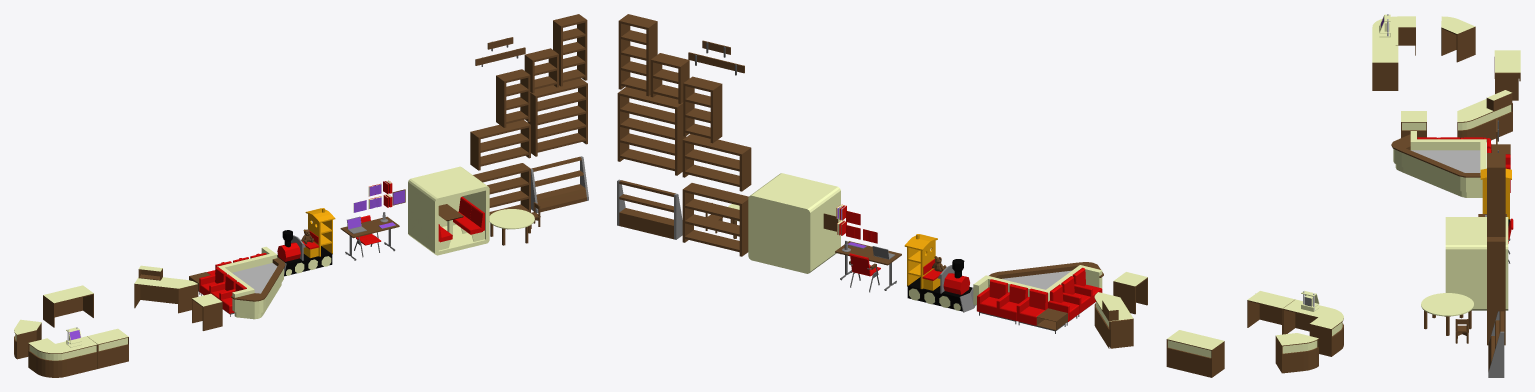
File: LibraryProps.fbx
The picture shows the model from 3 angles, left to right: view 1: azimuth 30°, elevation 25°; view 2: azimuth 150°, elevation 25°; view 3: azimuth 270°, elevation 25°; orthographic projection. The views are drawn at different scales.
Visible parts, largest first — view 1: IsolationCube, Aikak. lehdet v1, BookshelfTall v1, Aakkosveturi AAPO, LendingDeskCornerLarge, BookshelfShort v1, LendingDeskMain, SmallBookshelfTall v1, Bookshelf v2, Bookshelf v1, SmallBookshelf v1, LendingDeskLarge (+7 smaller); view 2: IsolationCube, Aikak. lehdet v1, BookshelfTall v1, Aakkosveturi AAPO, Bookshelf v1, BookshelfShort v1, SmallBookshelfTall v1, Bookshelf v2, LendingDeskLarge, SmallBookshelf v1, LendingDeskCornerLarge, LendingDeskMain (+6 smaller); view 3: Aikak. lehdet v1, IsolationCube, LendingDeskMain, SmallBookshelfTall v1, BookshelfTall v1, LendingDeskTurningSmall, TableChildrens, LendingDeskMedium, LendingDeskLarge, LendingDeskCornerLarge, Bookshelf v2, LendingDeskSmall (+5 smaller).
Part boxes in pixels (box(x1,y1,x2,y2)): IsolationCube: box(408, 166, 489, 255); Aikak. lehdet v1: box(199, 246, 285, 319); BookshelfTall v1: box(527, 78, 587, 156); Aakkosveturi AAPO: box(277, 208, 335, 276); LendingDeskCornerLarge: box(28, 336, 97, 377); BookshelfShort v1: box(470, 120, 530, 170); LendingDeskMain: box(134, 265, 198, 313); SmallBookshelfTall v1: box(553, 14, 587, 86); Bookshelf v2: box(531, 156, 588, 212); Bookshelf v1: box(473, 163, 530, 215); SmallBookshelf v1: box(496, 69, 530, 127); LendingDeskLarge: box(43, 285, 93, 327); IsolationCube: box(748, 173, 840, 273); Aikak. lehdet v1: box(973, 262, 1103, 325); BookshelfTall v1: box(617, 87, 686, 175); Aakkosveturi AAPO: box(904, 234, 975, 312); Bookshelf v1: box(682, 183, 748, 256); BookshelfShort v1: box(682, 134, 751, 191); SmallBookshelfTall v1: box(618, 14, 657, 96); Bookshelf v2: box(617, 179, 682, 239); LendingDeskLarge: box(1166, 330, 1224, 377); SmallBookshelf v1: box(683, 76, 722, 143); LendingDeskCornerLarge: box(1283, 299, 1343, 356); LendingDeskMain: box(1094, 292, 1133, 348); Aikak. lehdet v1: box(1391, 131, 1510, 197); IsolationCube: box(1445, 217, 1508, 310); LendingDeskMain: box(1457, 90, 1512, 141); SmallBookshelfTall v1: box(1487, 153, 1505, 236); BookshelfTall v1: box(1487, 237, 1505, 311); LendingDeskTurningSmall: box(1441, 16, 1475, 62); TableChildrens: box(1421, 293, 1473, 335); LendingDeskMedium: box(1372, 45, 1398, 90); LendingDeskLarge: box(1494, 50, 1520, 100); LendingDeskCornerLarge: box(1372, 16, 1415, 55); Bookshelf v2: box(1488, 311, 1504, 377); LendingDeskSmall: box(1401, 111, 1426, 138).
Bounding box in the file's own units: 2261 × 670 × 425.
